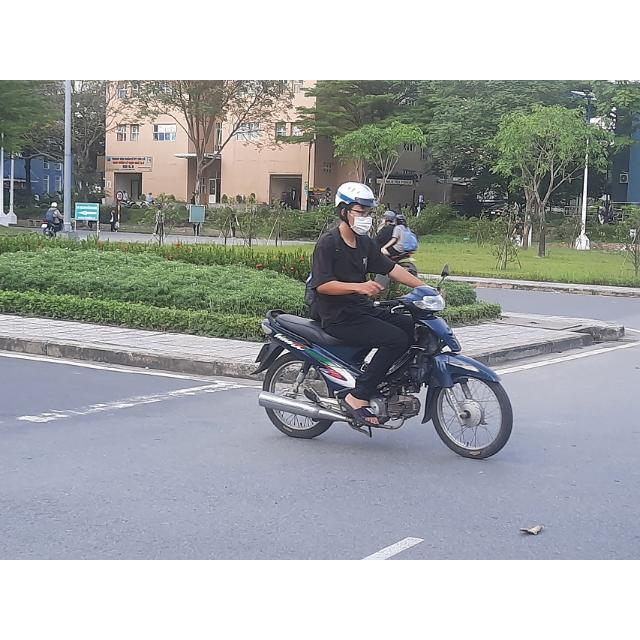Helmet: (332, 180, 380, 238)
